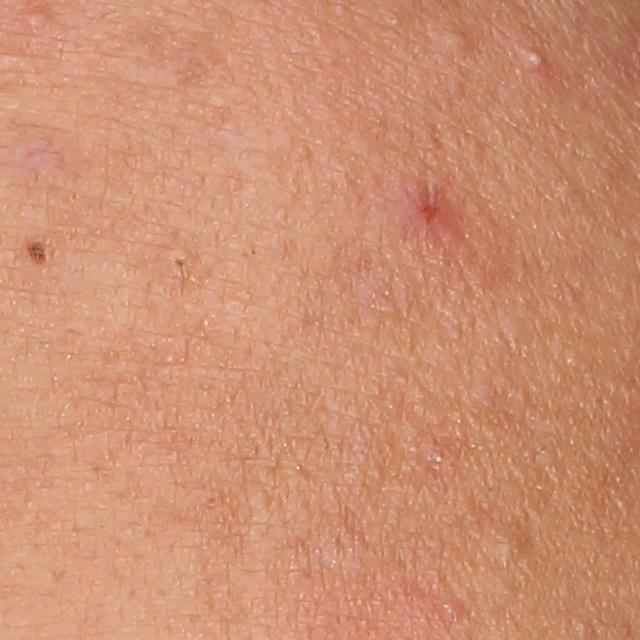comedo: (486, 518, 538, 575), (433, 27, 477, 63), (440, 600, 464, 623)
pustule: (519, 45, 554, 77)
